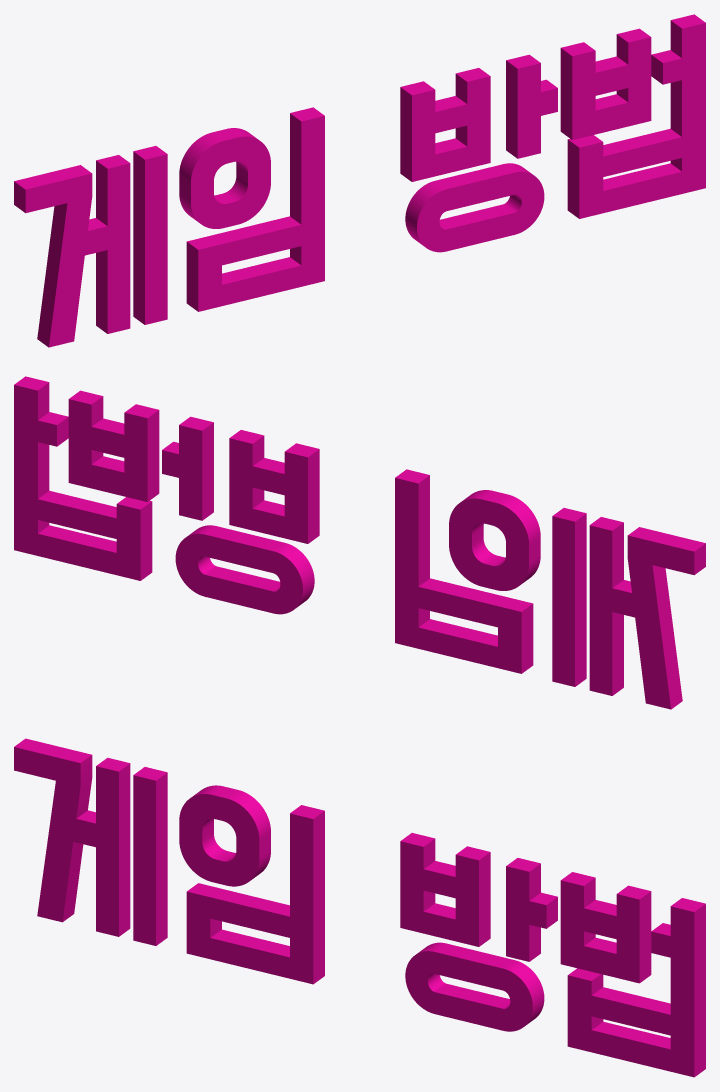
File: synopG 1.FBX
The picture shows the model from 3 angles, top to bottom: view 1: azimuth 30°, elevation 25°; view 2: azimuth 150°, elevation 25°; view 3: azimuth 330°, elevation 25°; orthographic projection.
Visible parts, largest first — view 1: Text014; view 2: Text014; view 3: Text014.
Part boxes in pixels (x1=…): Text014: x1=14, y1=14, x2=705, y2=347; Text014: x1=14, y1=376, x2=705, y2=709; Text014: x1=14, y1=738, x2=705, y2=1077.
Size of the model in its own units: 339 by 78.8 by 10.
